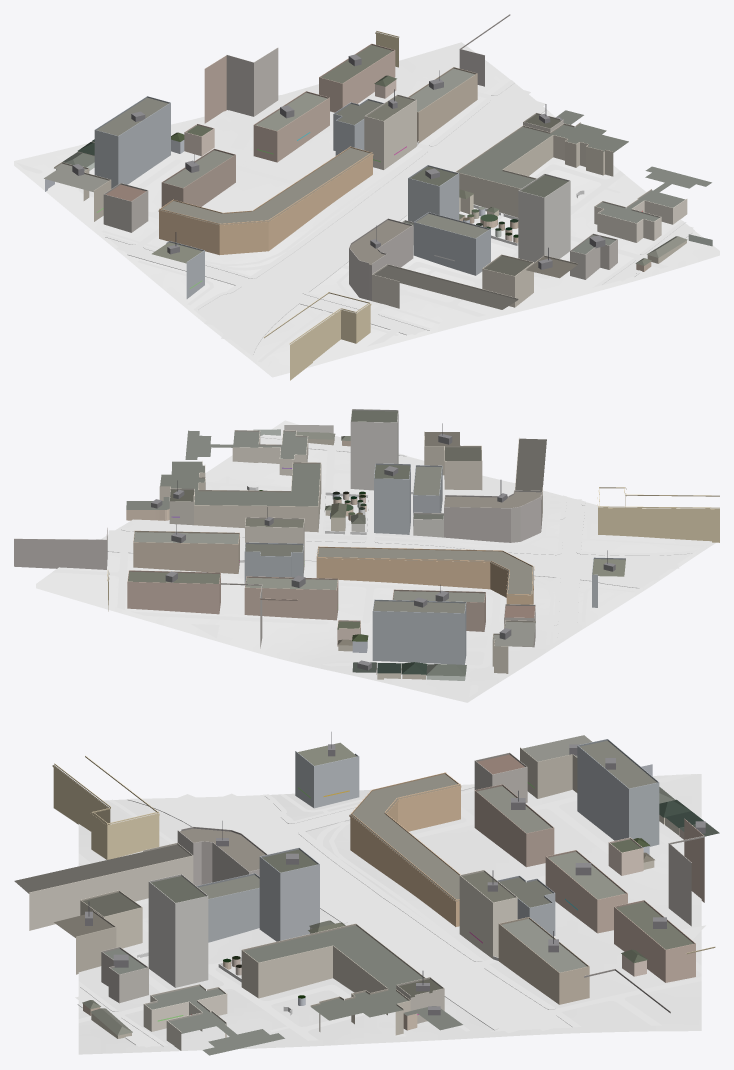
3 renders of one model, top to bottom at view 1: azimuth 30°, elevation 25°; view 2: azimuth 150°, elevation 25°; view 3: azimuth 270°, elevation 25°, orthographic. The views are drawn at different scales.
Visible parts, largest first — view 1: t0_-6_-11; view 2: t0_-6_-11; view 3: t0_-6_-11.
Part boxes in pixels (<box>): t0_-6_-11: <box>14,14,719,380</box>; t0_-6_-11: <box>14,409,719,702</box>; t0_-6_-11: <box>14,732,719,1055</box>.
Size of the model in its own units: 294 by 49.65 by 290.
